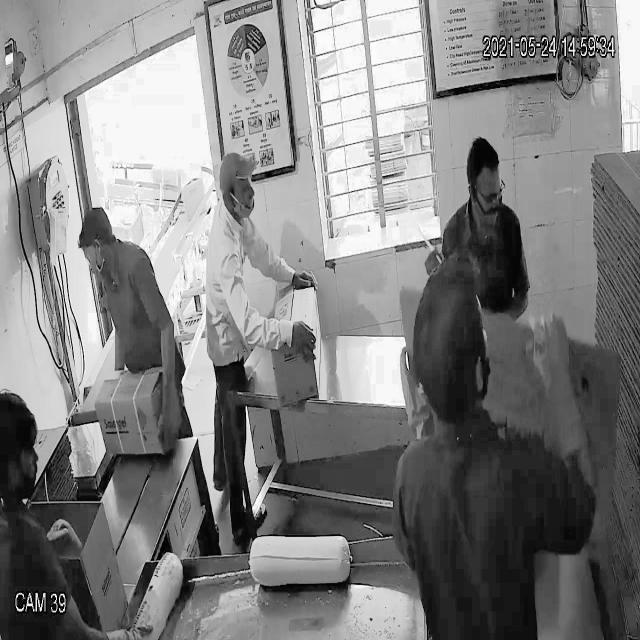glasses: (467, 176, 508, 209)
